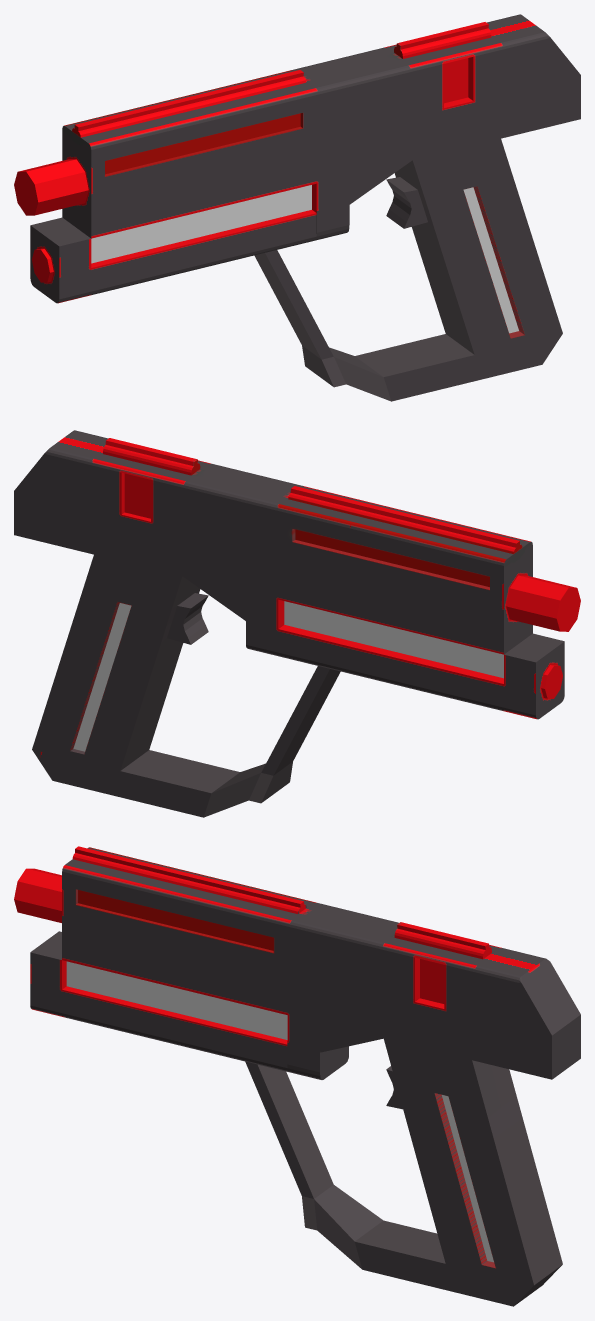
File: Gun_completed.fbx
The picture shows the model from 3 angles, top to bottom: view 1: azimuth 30°, elevation 25°; view 2: azimuth 150°, elevation 25°; view 3: azimuth 330°, elevation 25°; orthographic projection.
Parts seen in each view (by area): view 1: Cube; view 2: Cube; view 3: Cube.
Part boxes in pixels (<box>): Cube: <box>14,14,580,401</box>; Cube: <box>14,430,580,817</box>; Cube: <box>14,846,580,1306</box>.
Size of the model in its own units: 1212 by 731 by 113.
2 materials, 1 textured.
